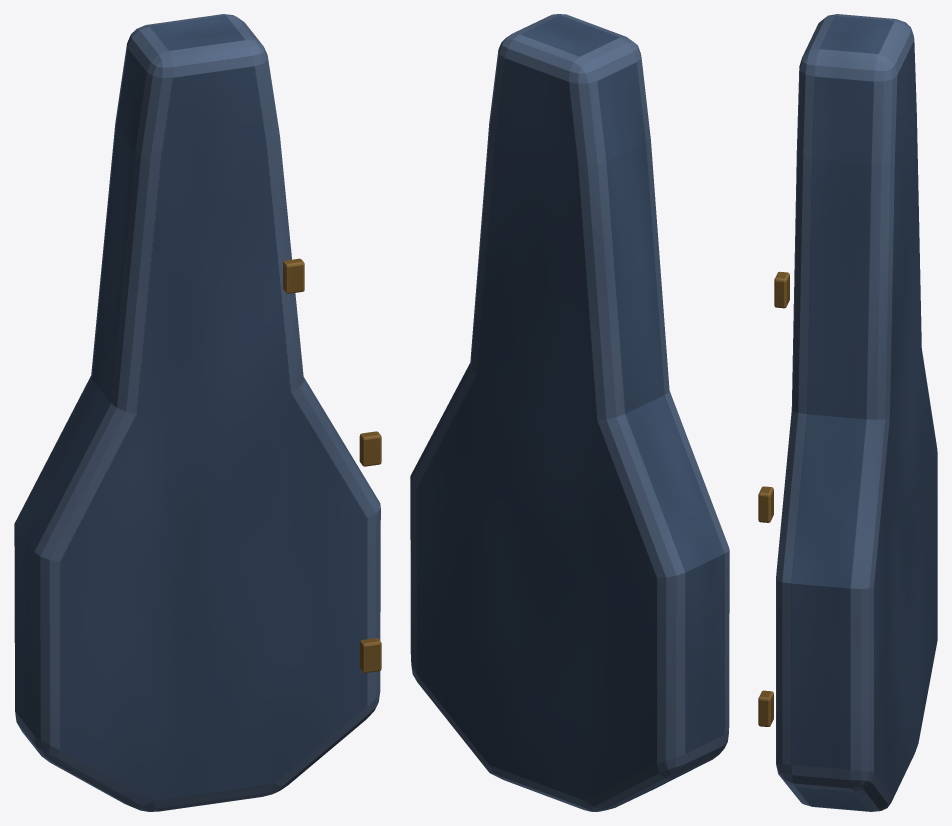
The model's file is 18_Cello_Case.fbx.
The picture shows the model from 3 angles, left to right: view 1: azimuth 30°, elevation 25°; view 2: azimuth 150°, elevation 25°; view 3: azimuth 270°, elevation 25°; orthographic projection.
Visible parts, largest first — view 1: 18_Cello_Case; view 2: 18_Cello_Case; view 3: 18_Cello_Case.
Part boxes in pixels (x1=…): 18_Cello_Case: x1=14, y1=14, x2=381, y2=811; 18_Cello_Case: x1=410, y1=14, x2=729, y2=811; 18_Cello_Case: x1=758, y1=14, x2=937, y2=811.
Bounding box in the file's own units: 72.95 × 165 × 35.85.
1 material, 1 textured.
